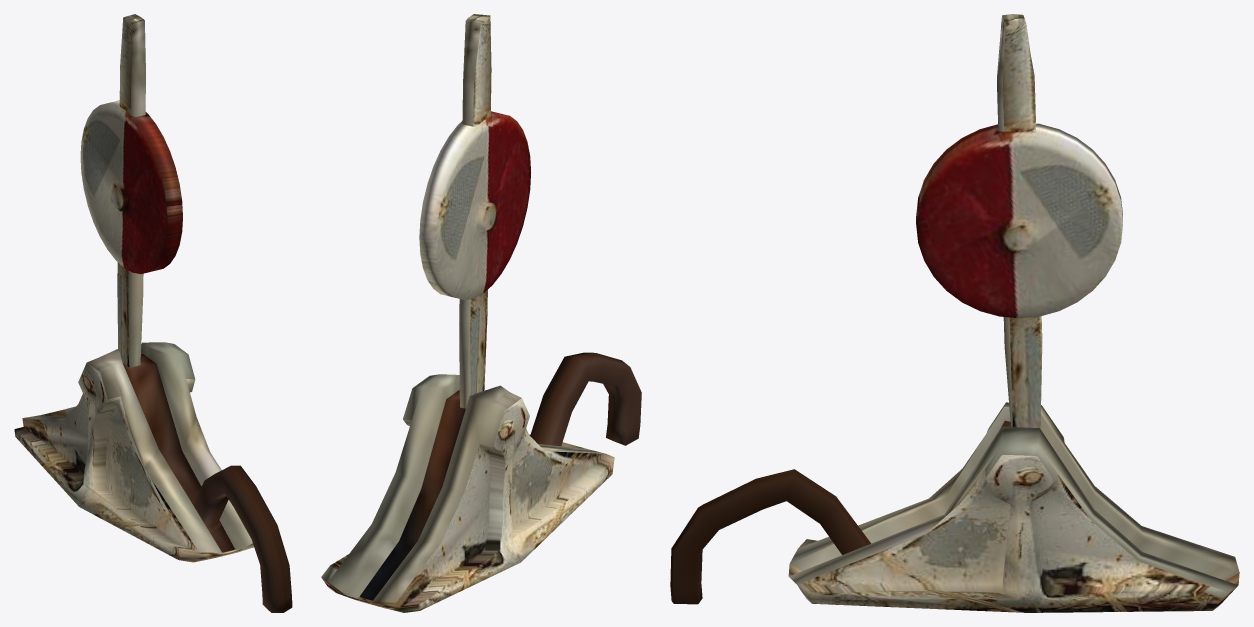
The model's file is lever.glb.
3 renders of one model, left to right at view 1: azimuth 30°, elevation 25°; view 2: azimuth 150°, elevation 25°; view 3: azimuth 270°, elevation 25°, orthographic. The views are drawn at different scales.
Parts seen in each view (by area): view 1: leverholder, lever; view 2: leverholder, lever; view 3: leverholder, lever.
Part boxes in pixels (x1,y1,x2,y2): leverholder: (14,342,292,612); lever: (80,14,182,367); leverholder: (321,352,641,612); lever: (419,14,530,408); leverholder: (670,402,1239,612); lever: (916,14,1122,428).
Size of the model in its own units: 1.36 by 6.18 by 5.5.
Materials: 1 (1 with a texture image).
